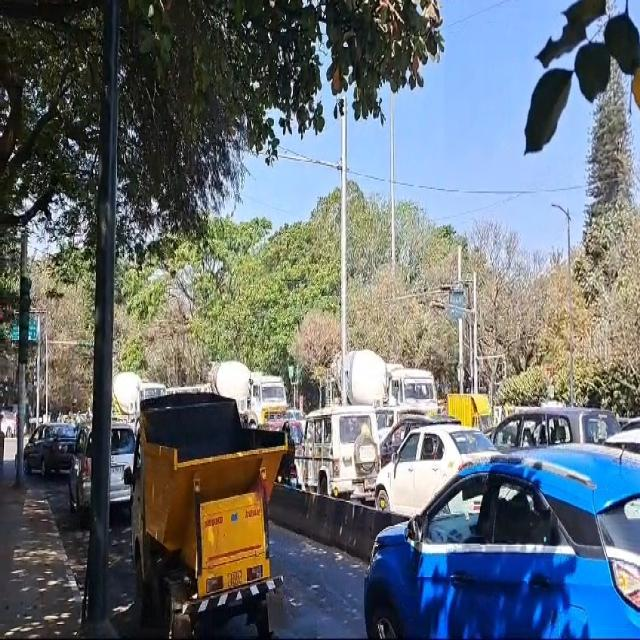cars: (362, 453, 640, 640), (375, 425, 502, 519), (295, 408, 382, 503), (26, 425, 77, 481)
